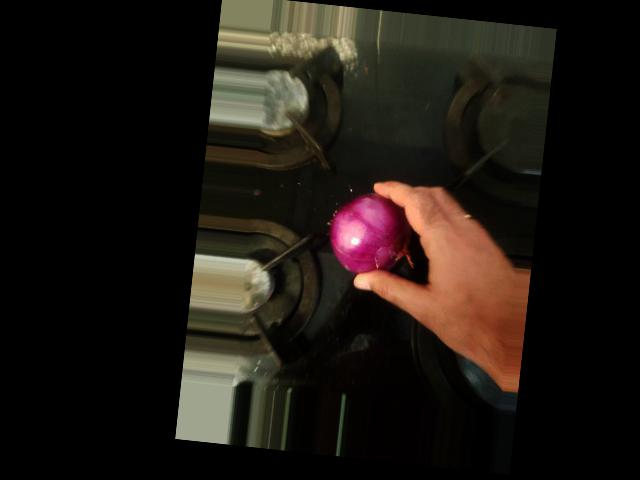onion: (283, 112, 381, 202)
